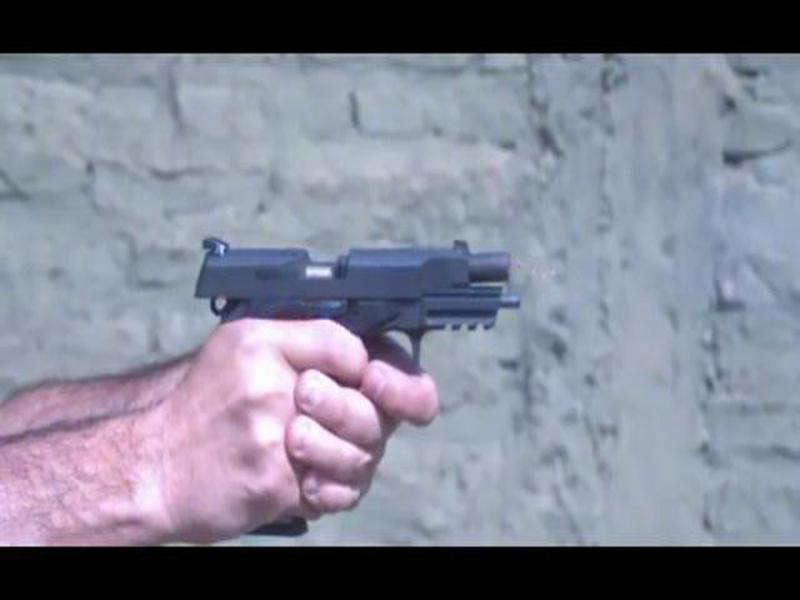Pistola: (173, 224, 536, 384)
